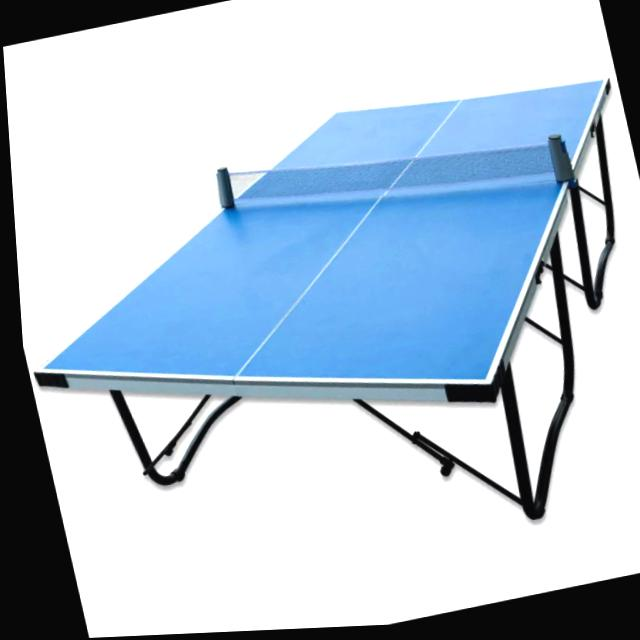TT Net: (216, 135, 572, 210)
TT Table: (36, 76, 607, 382)
